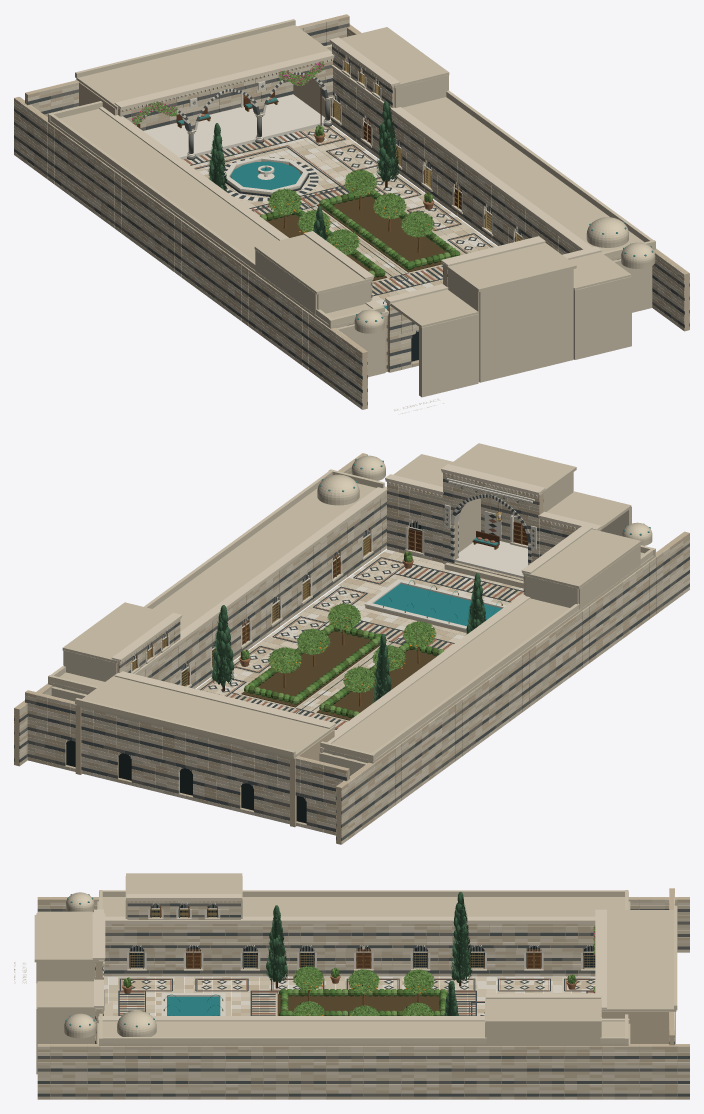
File: test_palace.glb
3 renders of one model, top to bottom at view 1: azimuth 30°, elevation 25°; view 2: azimuth 150°, elevation 25°; view 3: azimuth 270°, elevation 25°, orthographic. The views are drawn at different scales.
Visible parts, largest first — view 1: Outer residential wall, North wing roof and colonnade platform, Iwan vaulted room and raised dais, Flat earthen residential roofs, Flat earthen residential roofs.001, East ablaq courtyard facade, Limestone courtyard paving, South reception chamber shell, Sunken garden beds and clipped hedges, Upper room volume and roof, South reception chamber shell.001, Upper room volume and roof.001 (+26 smaller); view 2: Outer residential wall, North reception rooms rear wall, Flat earthen residential roofs, East ablaq courtyard facade, North wing roof and colonnade platform, Flat earthen residential roofs.001, Limestone courtyard paving, Sunken garden beds and clipped hedges, Iwan vaulted room and raised dais, Upper room volume and roof, Upper room volume and roof.001, Cut marble carpets and geometric borders (+26 smaller); view 3: Outer residential wall.001, West ablaq courtyard facade, Flat earthen residential roofs, Flat earthen residential roofs.001, North wing roof and colonnade platform, Limestone courtyard paving, Iwan vaulted room and raised dais, Upper room volume and roof.001, Cut marble carpets and geometric borders, Sunken garden beds and clipped hedges, Residential facade cornice, Upper room volume and roof (+28 smaller).
Part boxes in pixels (bbox=[...]): Outer residential wall: bbox=[14, 97, 367, 409]; North wing roof and colonnade platform: bbox=[75, 19, 331, 159]; Iwan vaulted room and raised dais: bbox=[444, 243, 576, 382]; Flat earthen residential roofs: bbox=[48, 101, 384, 328]; Flat earthen residential roofs.001: bbox=[325, 44, 655, 260]; East ablaq courtyard facade: bbox=[330, 69, 579, 254]; Limestone courtyard paving: bbox=[183, 125, 496, 372]; South reception chamber shell: bbox=[390, 289, 478, 397]; Sunken garden beds and clipped hedges: bbox=[260, 190, 460, 282]; Upper room volume and roof: bbox=[254, 234, 371, 314]; South reception chamber shell.001: bbox=[569, 252, 631, 359]; Upper room volume and roof.001: bbox=[340, 27, 449, 107]; Outer residential wall: bbox=[336, 531, 689, 844]; North reception rooms rear wall: bbox=[25, 690, 349, 835]; Flat earthen residential roofs: bbox=[320, 545, 655, 763]; East ablaq courtyard facade: bbox=[138, 492, 386, 688]; North wing roof and colonnade platform: bbox=[75, 674, 334, 827]; Flat earthen residential roofs.001: bbox=[48, 469, 384, 694]; Limestone courtyard paving: bbox=[196, 549, 523, 730]; Sunken garden beds and clipped hedges: bbox=[239, 624, 443, 721]; Iwan vaulted room and raised dais: bbox=[444, 443, 576, 588]; Upper room volume and roof: bbox=[524, 529, 641, 609]; Upper room volume and roof.001: bbox=[62, 602, 171, 681]; Cut marble carpets and geometric borders: bbox=[200, 557, 523, 729]; Outer residential wall.001: bbox=[37, 1044, 689, 1099]; West ablaq courtyard facade: bbox=[104, 924, 595, 976]; Flat earthen residential roofs: bbox=[99, 890, 628, 916]; Flat earthen residential roofs.001: bbox=[99, 1013, 628, 1045]; North wing roof and colonnade platform: bbox=[601, 905, 677, 1043]; Limestone courtyard paving: bbox=[104, 977, 595, 1015]; Iwan vaulted room and raised dais: bbox=[34, 915, 112, 1043]; Upper room volume and roof.001: bbox=[485, 996, 601, 1043]; Cut marble carpets and geometric borders: bbox=[118, 978, 595, 1015]; Sunken garden beds and clipped hedges: bbox=[275, 989, 447, 1015]; Residential facade cornice: bbox=[105, 916, 595, 925]; Upper room volume and roof: bbox=[125, 873, 242, 918].
Size of what is drawn, in the model's own units: 37.45 by 11.28 by 71.5.
